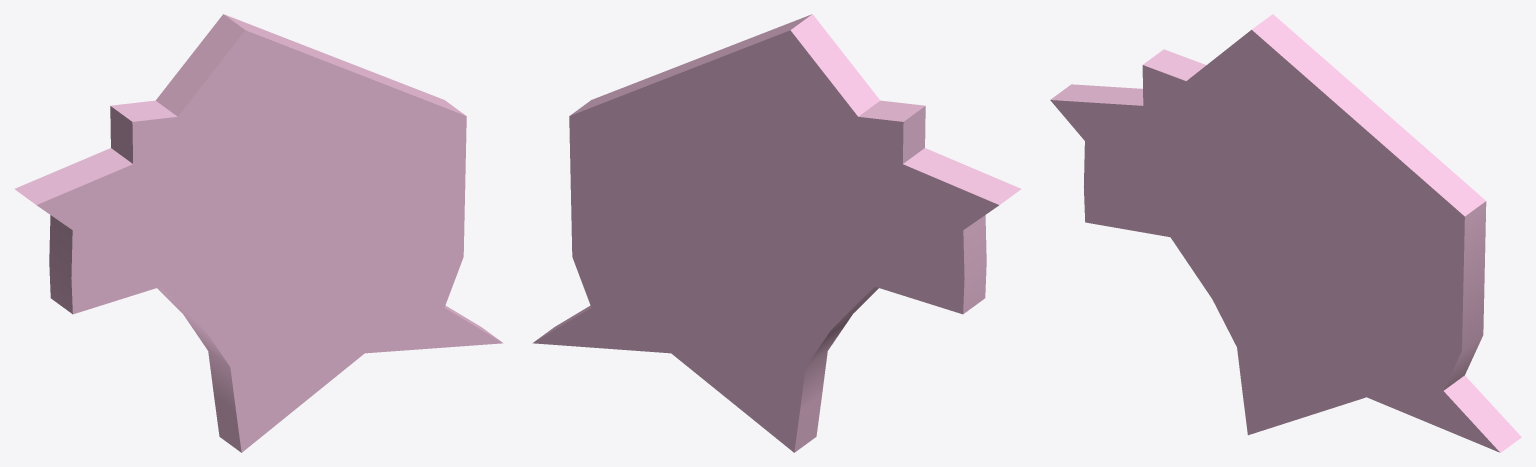
The model's file is rodeo.fbx.
3 views of the same model, side by side, from view 1: azimuth 30°, elevation 25°; view 2: azimuth 150°, elevation 25°; view 3: azimuth 330°, elevation 25° (orthographic). The views are drawn at different scales.
Visible parts, largest first — view 1: rodeo; view 2: rodeo; view 3: rodeo.
Boxes of the visible parts, left/top/right/bottom form: rodeo: left=15, top=14, right=503, bottom=452; rodeo: left=532, top=14, right=1020, bottom=452; rodeo: left=1050, top=14, right=1521, bottom=452.
Size of the model in its own units: 97.33 by 83.95 by 8.
